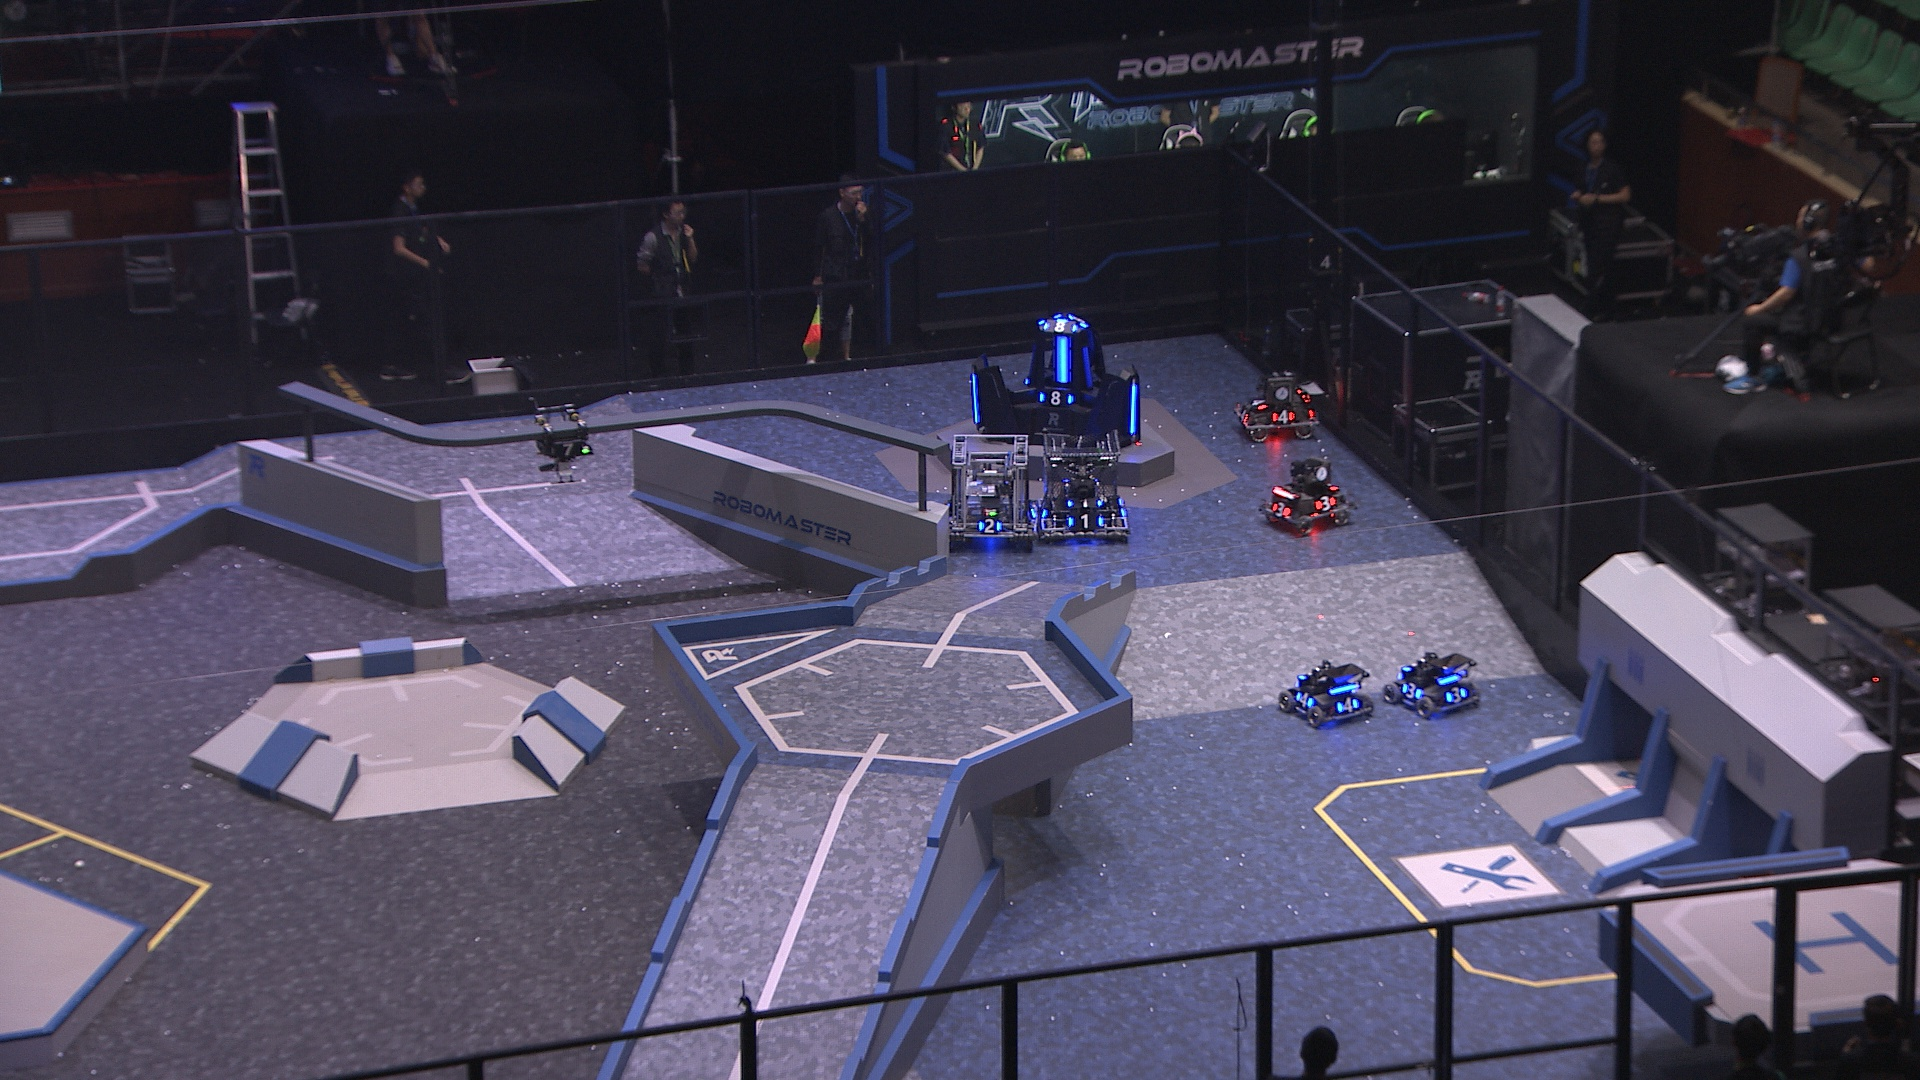armor: (1048, 334, 1072, 386), (967, 373, 982, 427), (1036, 386, 1076, 407), (1064, 512, 1106, 531), (1077, 344, 1095, 392), (1040, 318, 1081, 338), (549, 438, 588, 458), (1127, 378, 1139, 439), (1063, 495, 1102, 512), (1443, 683, 1470, 707), (975, 514, 1004, 537), (1313, 491, 1337, 514), (1399, 680, 1424, 703), (1249, 392, 1273, 414), (1335, 695, 1360, 716), (1292, 690, 1316, 711), (1269, 500, 1292, 520), (1271, 405, 1295, 425), (1065, 313, 1087, 328), (1025, 498, 1040, 520), (1238, 409, 1251, 431)
base: (963, 309, 1145, 451)
car: (942, 429, 1044, 549), (1034, 425, 1138, 542), (1276, 655, 1379, 733), (1259, 460, 1358, 537), (1385, 646, 1481, 723), (1229, 368, 1321, 446)
watcher: (527, 392, 595, 485)
